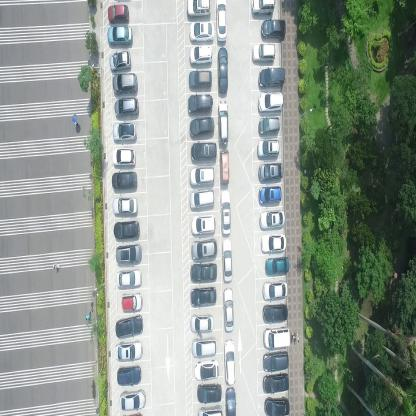car: (190, 236, 218, 260), (115, 313, 143, 336), (188, 188, 214, 212), (189, 283, 216, 306), (263, 326, 291, 348), (262, 350, 290, 372), (191, 213, 215, 238), (258, 207, 284, 230), (115, 244, 142, 266), (190, 260, 217, 282), (262, 371, 289, 393), (115, 339, 142, 361), (223, 336, 235, 384), (113, 96, 138, 119), (188, 21, 214, 43), (112, 73, 138, 95), (189, 166, 215, 188), (120, 388, 146, 410), (258, 68, 285, 89), (222, 285, 234, 332), (112, 220, 140, 240), (190, 116, 214, 139), (113, 196, 138, 218), (116, 268, 141, 290), (261, 18, 286, 40), (112, 121, 138, 142), (194, 358, 220, 379), (107, 26, 134, 46), (111, 171, 138, 191), (191, 335, 216, 356), (191, 142, 217, 162), (261, 233, 287, 253), (264, 395, 290, 415), (221, 236, 232, 282), (252, 42, 275, 64), (188, 46, 212, 67), (112, 146, 136, 167), (259, 92, 283, 113), (263, 280, 288, 300), (263, 302, 288, 322), (109, 50, 131, 72), (121, 290, 143, 312), (188, 70, 212, 90), (218, 46, 228, 94), (190, 312, 214, 332), (117, 364, 141, 384), (187, 0, 211, 20), (188, 95, 213, 114), (264, 256, 289, 275), (218, 98, 228, 145), (216, 0, 227, 42), (220, 189, 230, 234), (258, 162, 283, 180), (196, 381, 221, 399), (259, 185, 282, 204), (258, 116, 280, 135), (107, 5, 130, 23), (257, 140, 280, 158), (219, 149, 229, 186), (251, 0, 275, 15), (225, 386, 237, 416), (198, 403, 223, 415)
